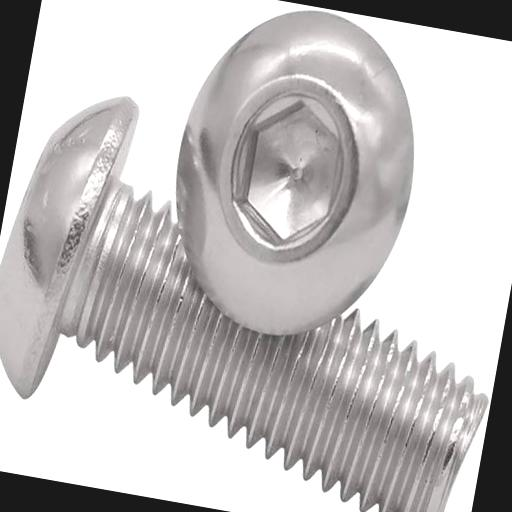Hex-Allen: (152, 0, 437, 357)
